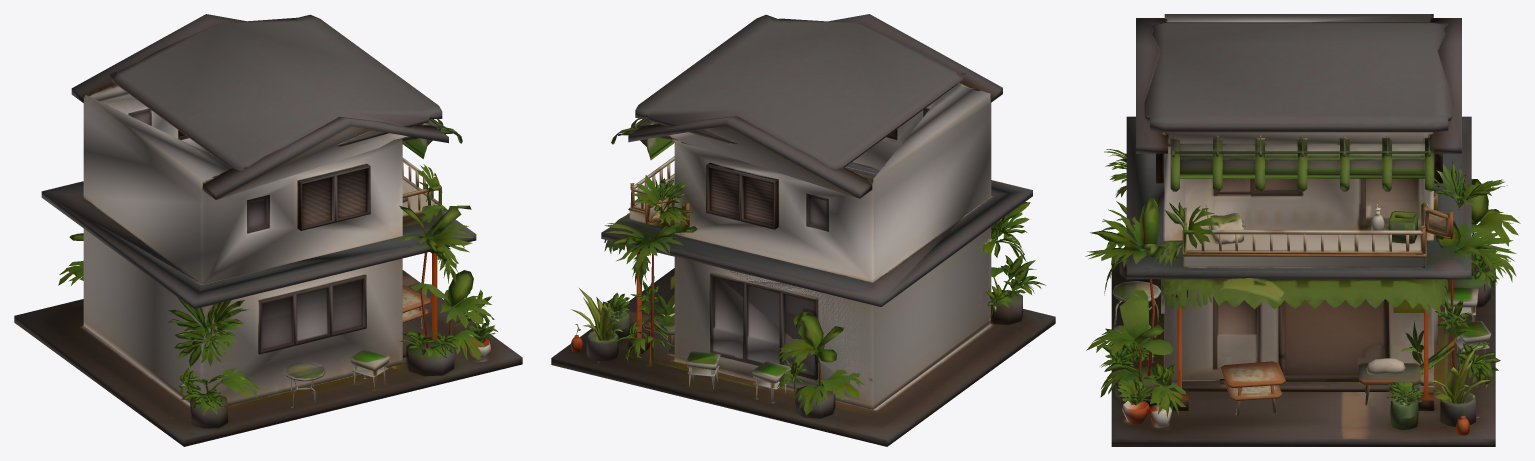
File: environment.corner-cafe-01.lod0.glb
3 views of the same model, side by side, from view 1: azimuth 30°, elevation 25°; view 2: azimuth 150°, elevation 25°; view 3: azimuth 270°, elevation 25° (orthographic). The views are drawn at different scales.
Visible parts, largest first — view 1: environment.corner-cafe-01_LOD0_00; view 2: environment.corner-cafe-01_LOD0_00; view 3: environment.corner-cafe-01_LOD0_00.
Boxes of the visible parts, x1=… form: environment.corner-cafe-01_LOD0_00: x1=14, y1=14, x2=522, y2=446; environment.corner-cafe-01_LOD0_00: x1=551, y1=14, x2=1055, y2=446; environment.corner-cafe-01_LOD0_00: x1=1085, y1=14, x2=1520, y2=446.
Bounding box in the file's own units: 6 × 4.68 × 5.93.
Materials: 1 (1 with a texture image).
